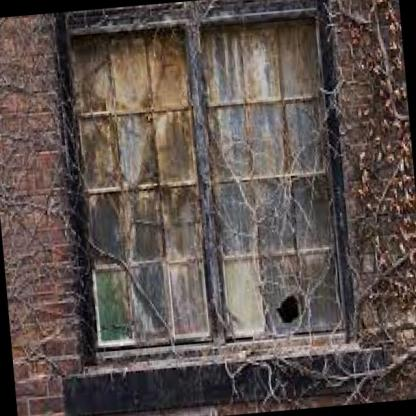Window: (56, 2, 352, 368)
